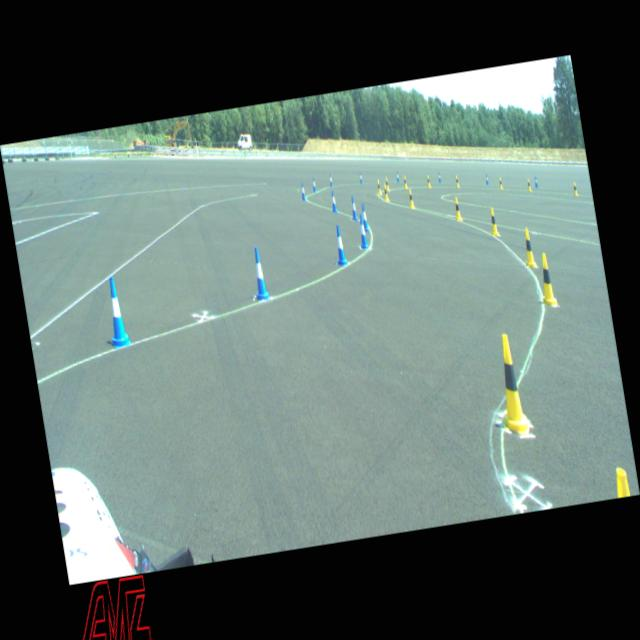blue_cone: (102, 276, 132, 348), (249, 247, 270, 300), (332, 224, 348, 266), (356, 215, 368, 248), (361, 202, 369, 232), (349, 196, 358, 220), (330, 190, 337, 212), (300, 182, 306, 200), (312, 177, 317, 192), (328, 174, 333, 186), (358, 172, 362, 183), (485, 173, 489, 184), (534, 176, 538, 187), (438, 172, 442, 183), (396, 171, 400, 182)
yellow_cone: (489, 333, 531, 438), (536, 252, 558, 306), (521, 228, 536, 268), (614, 467, 630, 497), (488, 207, 499, 236), (453, 197, 462, 220), (408, 188, 414, 208), (376, 180, 382, 196), (384, 183, 389, 201), (526, 178, 532, 191), (572, 182, 578, 195), (385, 177, 390, 191), (426, 175, 431, 188), (403, 175, 408, 188), (456, 176, 460, 188), (499, 177, 503, 189)
